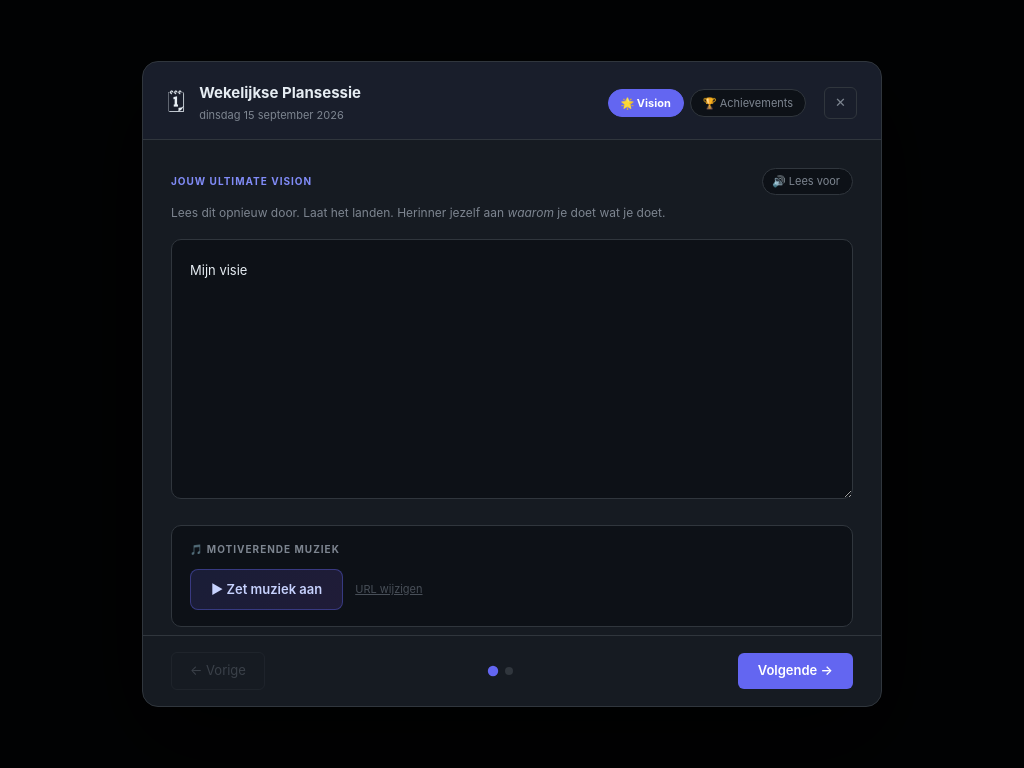
Test: PlanningSessionModal › structure and navigation › ← Vorige on phase 2 goes back to phase 1
Click the button "Volgende →". click: click(795, 671)
box: x1=738 y1=653 x2=853 y2=689
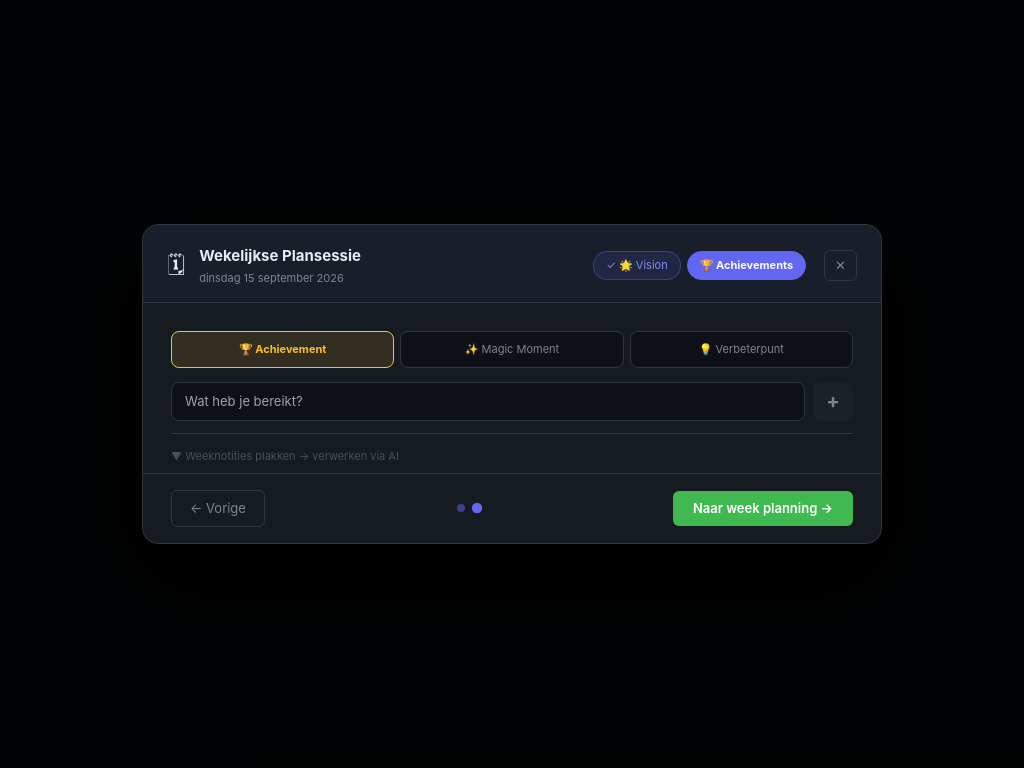
Click the button "← Vorige". click: click(218, 508)
box: x1=171 y1=490 x2=265 y2=527
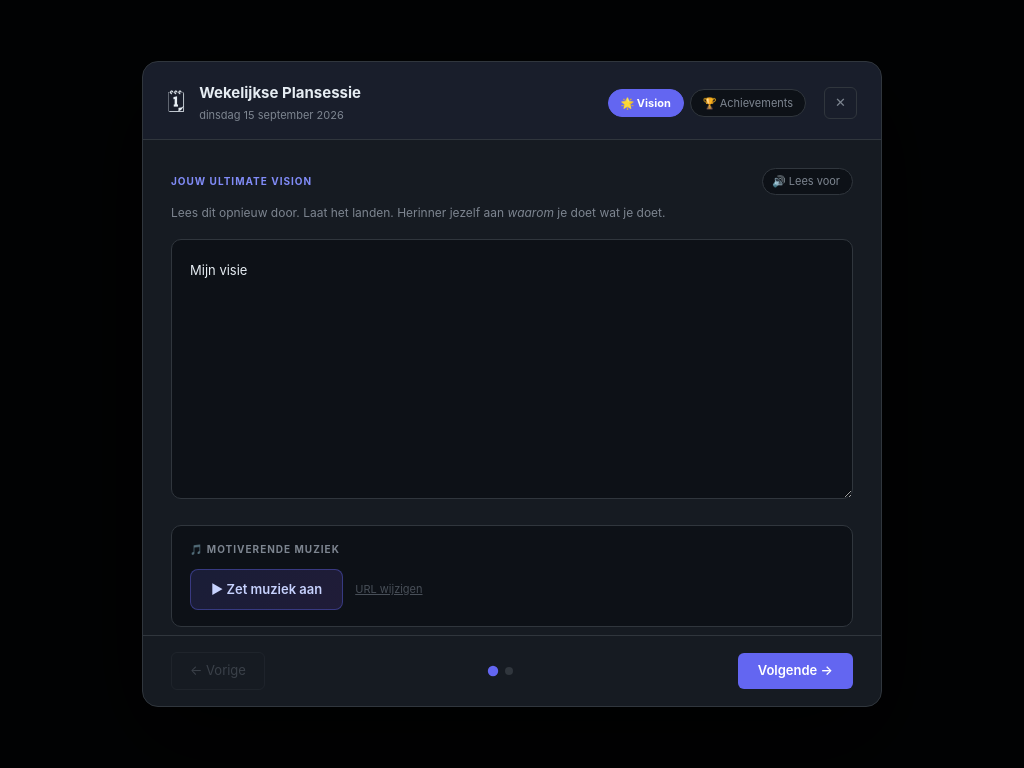
Result: the text "Jouw Ultimate Vision" is shown at x1=171 y1=174 x2=312 y2=189
